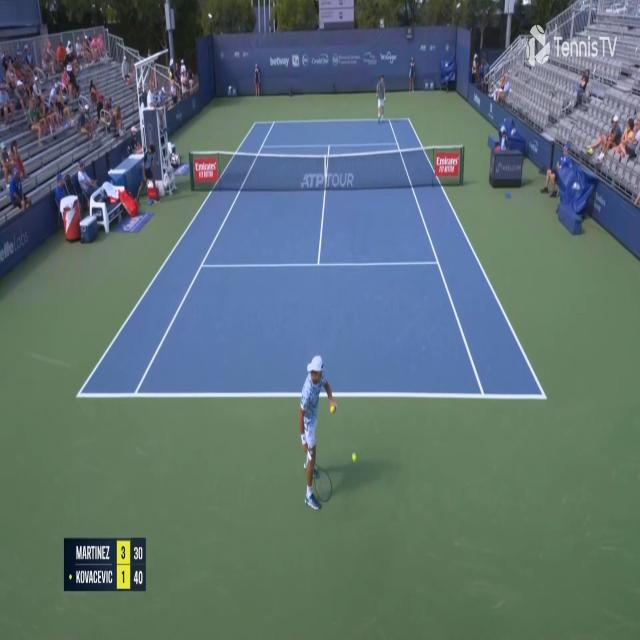tennis-player: (296, 351, 337, 512), (375, 73, 386, 123)
